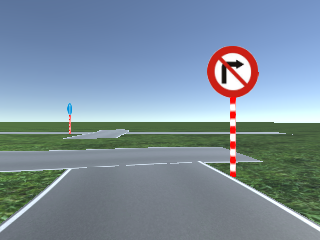-5: (1, 197, 320, 239)
NoRight: (207, 46, 259, 97)
